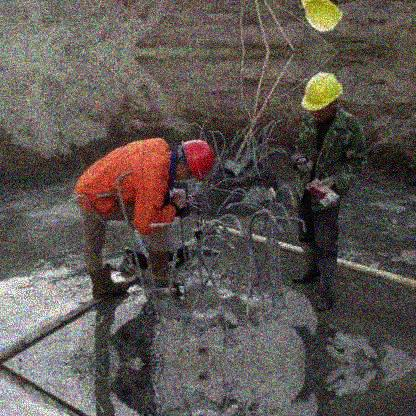helmet: (301, 72, 344, 122), (172, 140, 216, 183)
